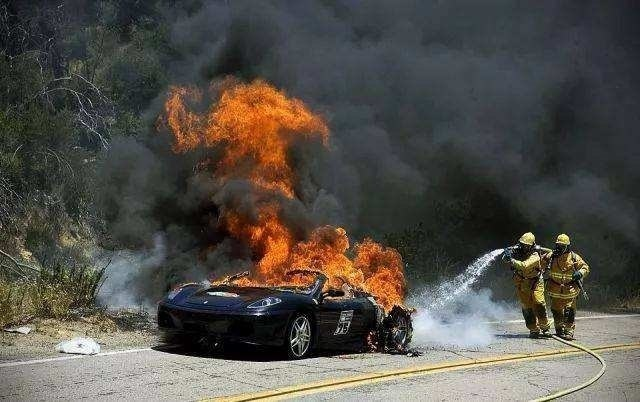fire: (160, 71, 408, 300)
